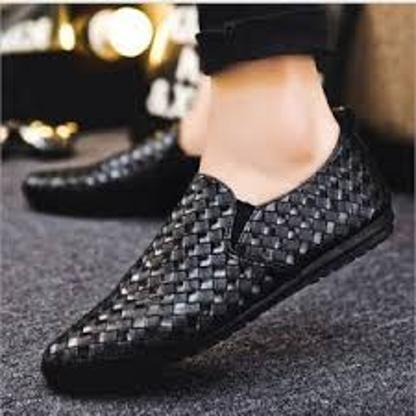not trash: (34, 101, 400, 389), (19, 122, 226, 218)
